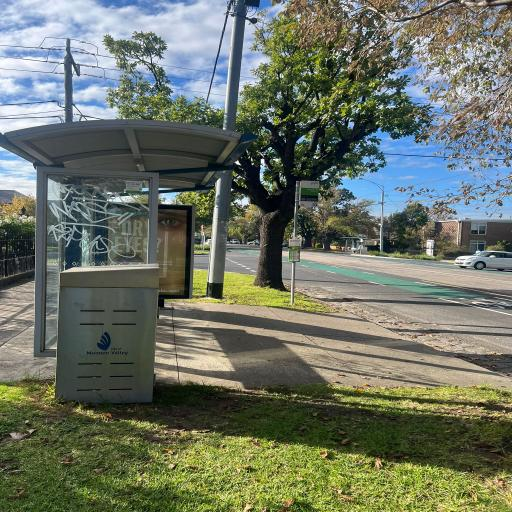Obstruction: (55, 263, 163, 403), (207, 174, 231, 297)
clear_path: (172, 306, 451, 387)
kerb_cut: (288, 310, 500, 386)
signage: (288, 179, 322, 305)
